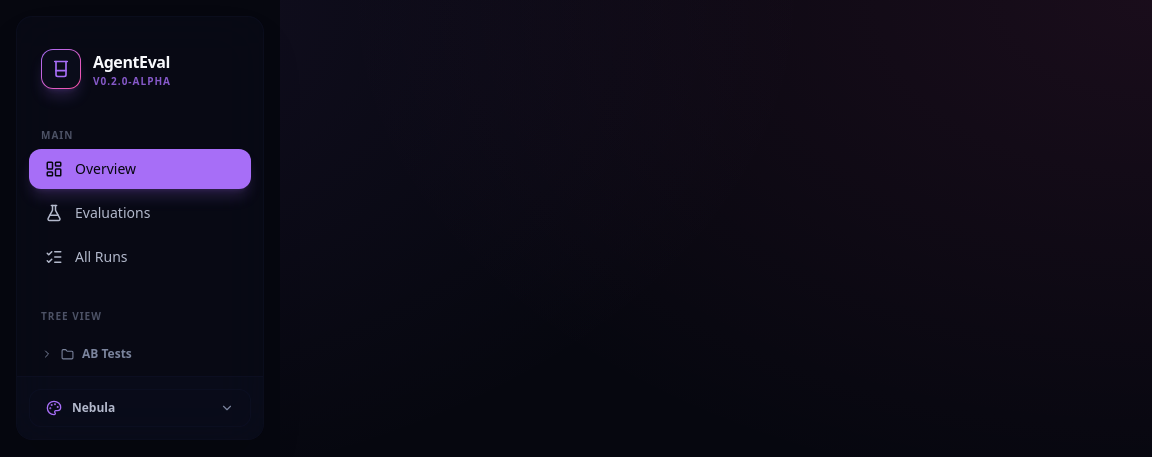
Test case: Sidebar › Theme Selection › opens theme dropdown on click
Click the button "nebula".
click(140, 408)  # box [29,389,251,427]
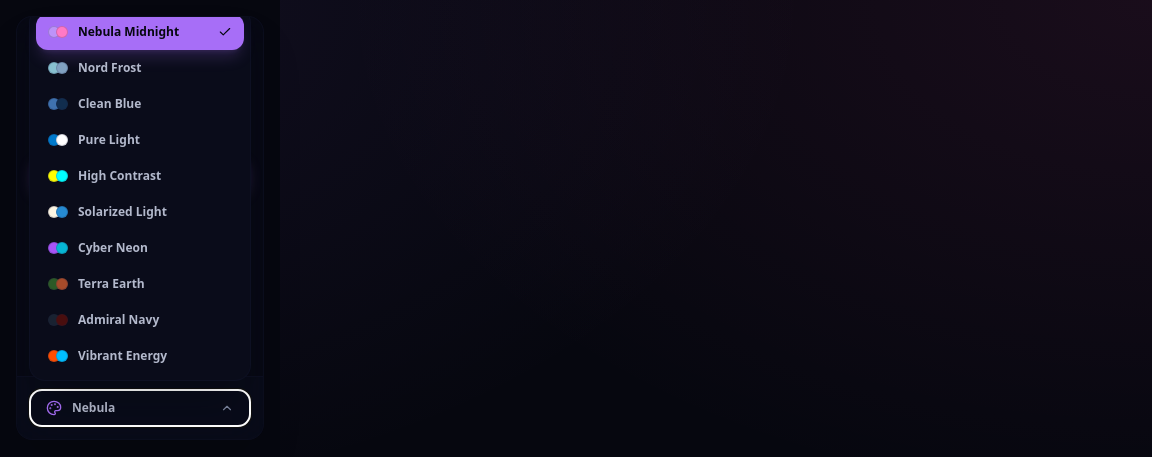
expect the text "Nebula Midnight" is shown: met, box [48,24,179,40]
